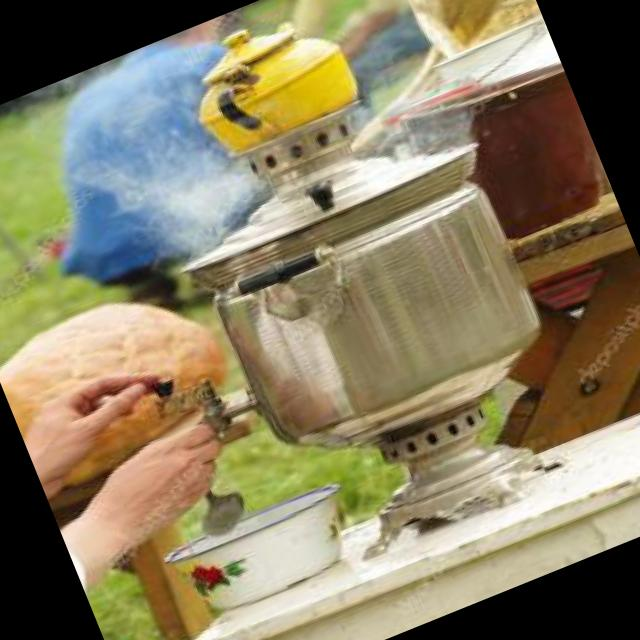smoke: (19, 28, 270, 300)
